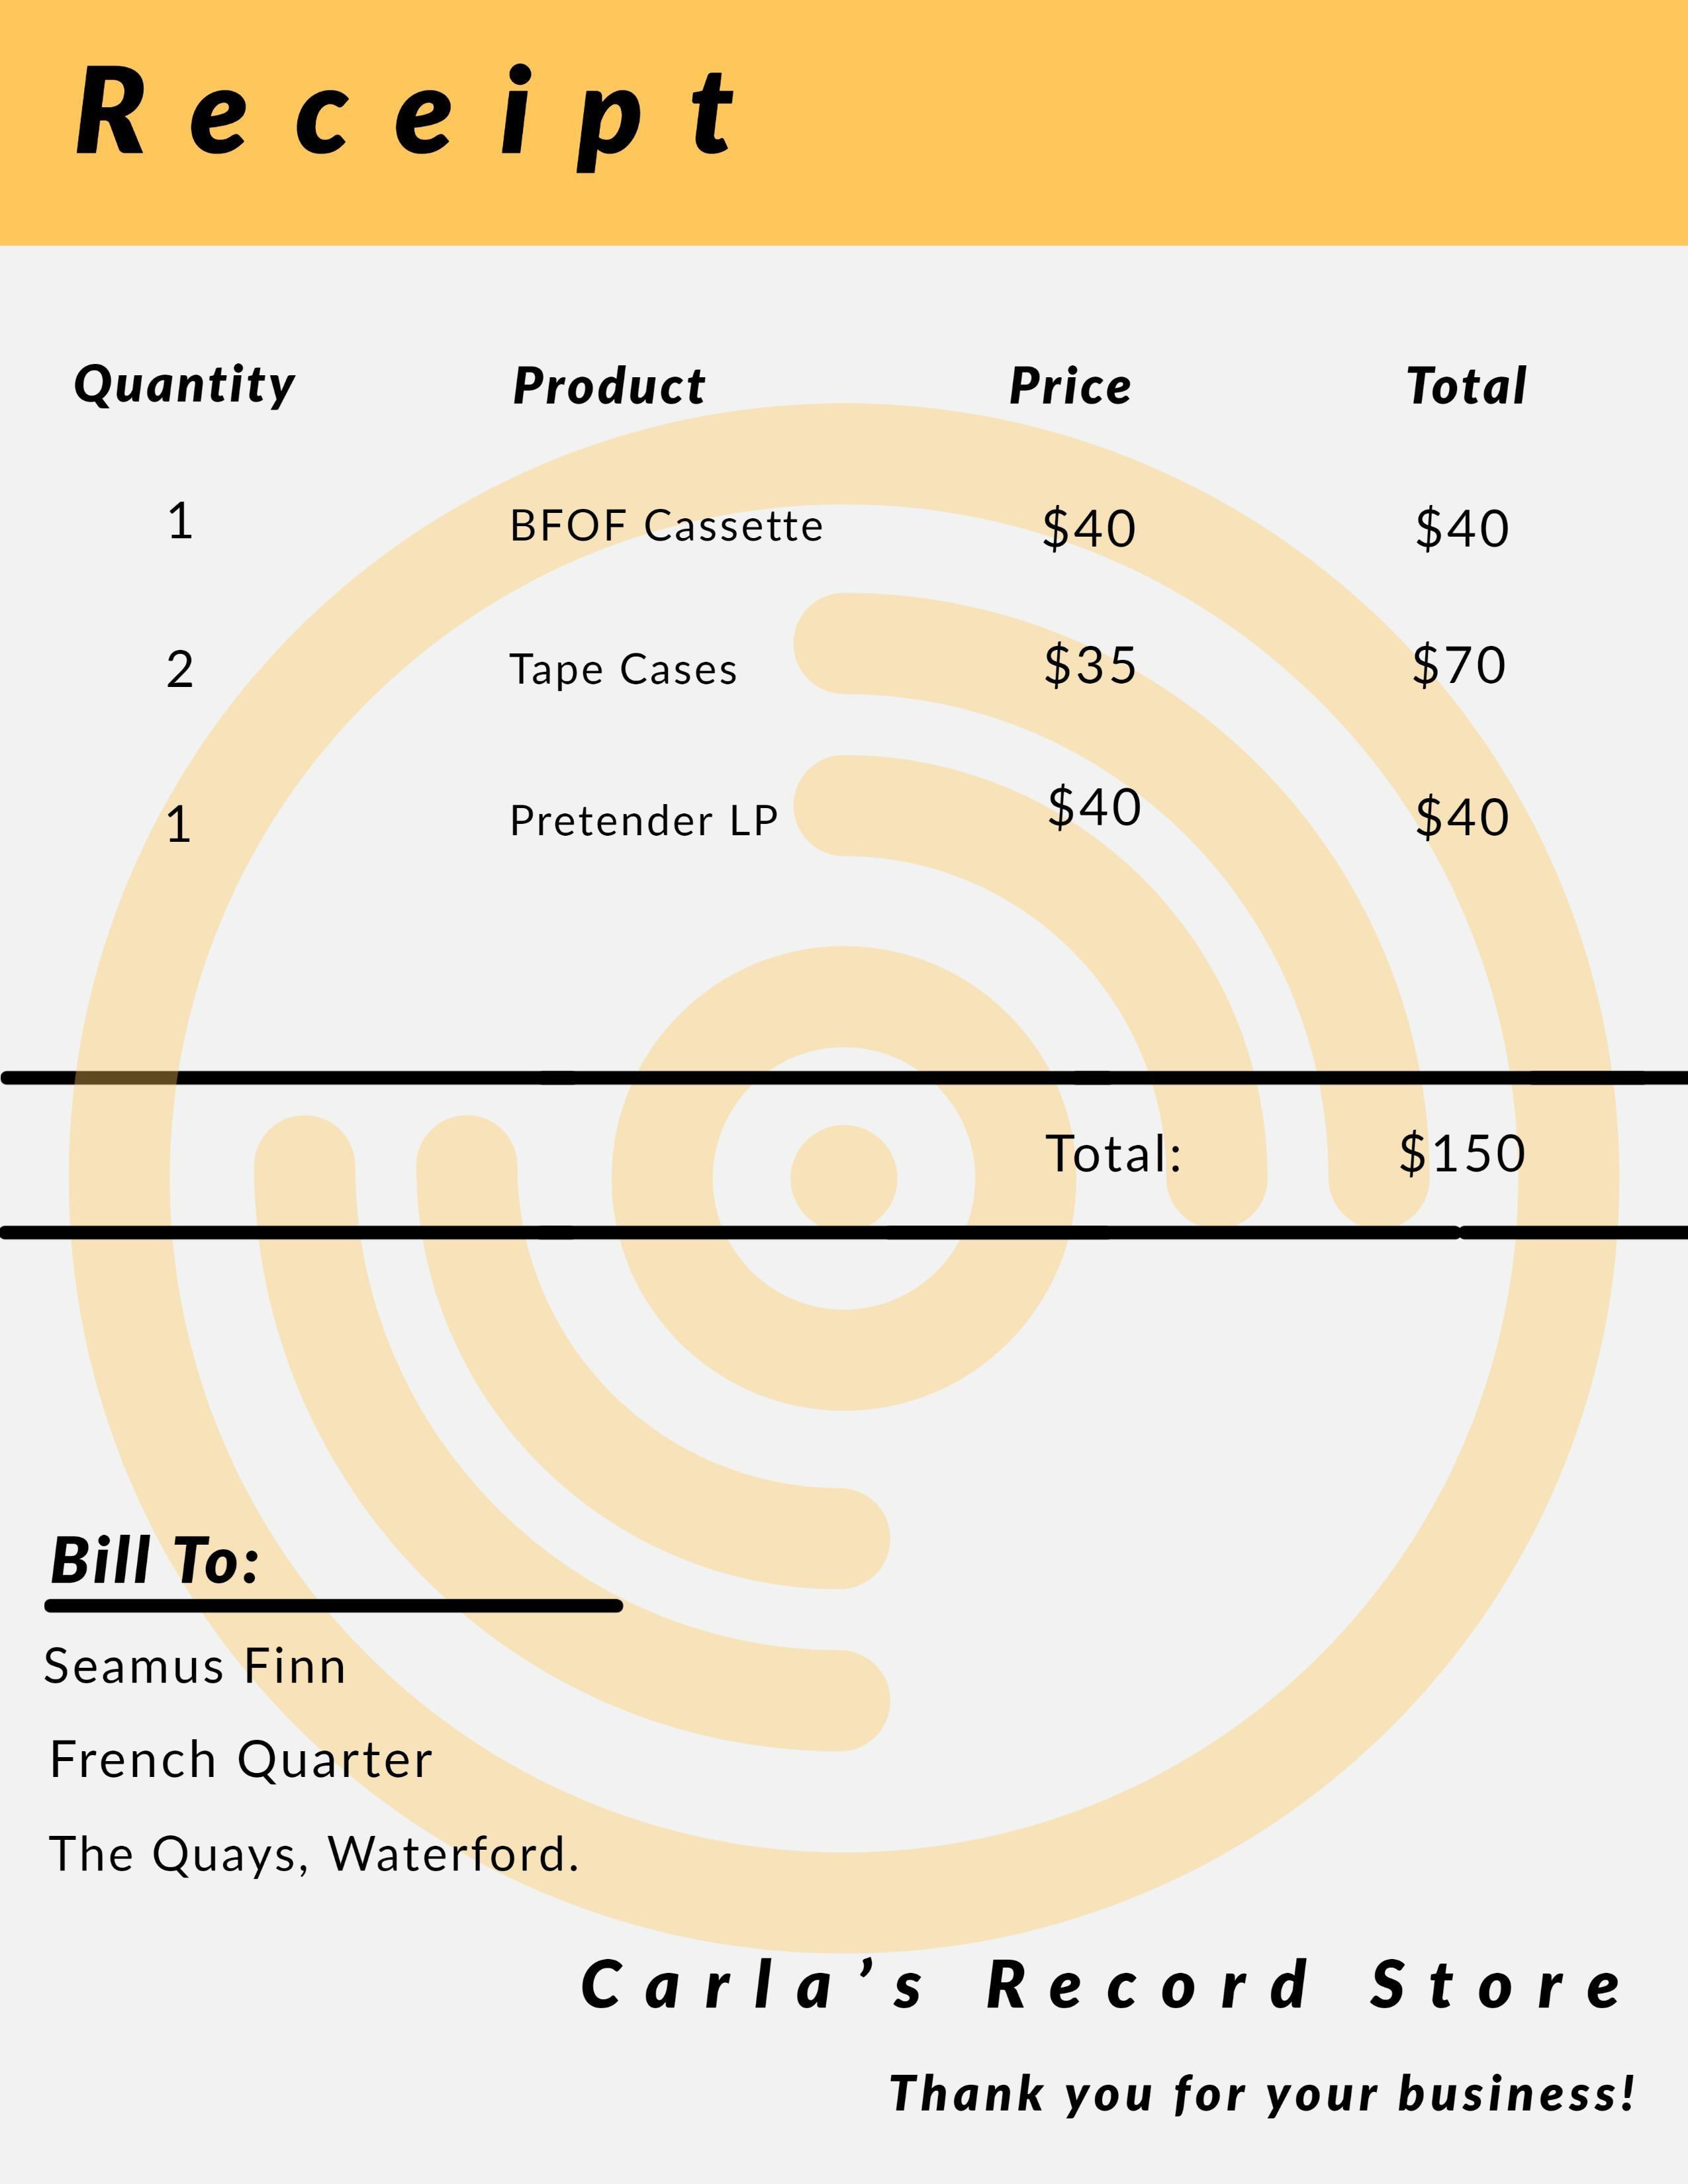ROI: (20, 330, 1651, 1053), (39, 1517, 612, 1902), (560, 1932, 1640, 2033), (970, 1117, 1598, 1189)
